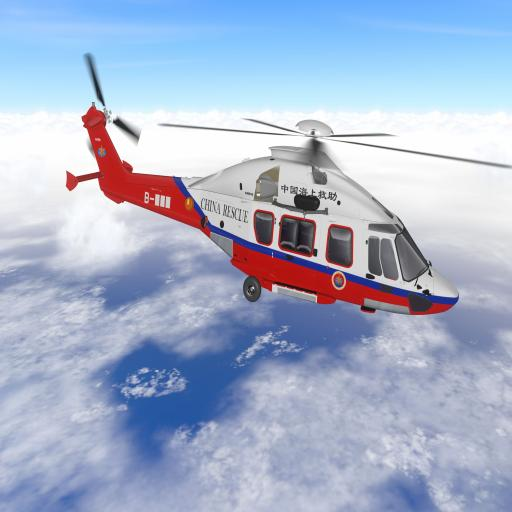helicopter: (64, 45, 476, 342)
